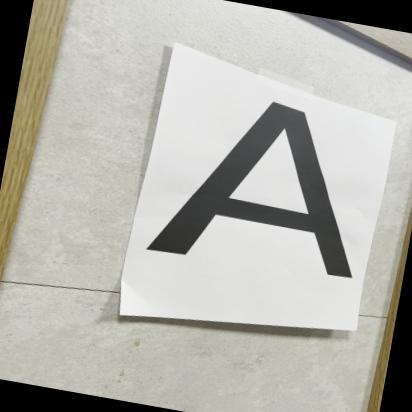seat: (87, 23, 400, 354)
